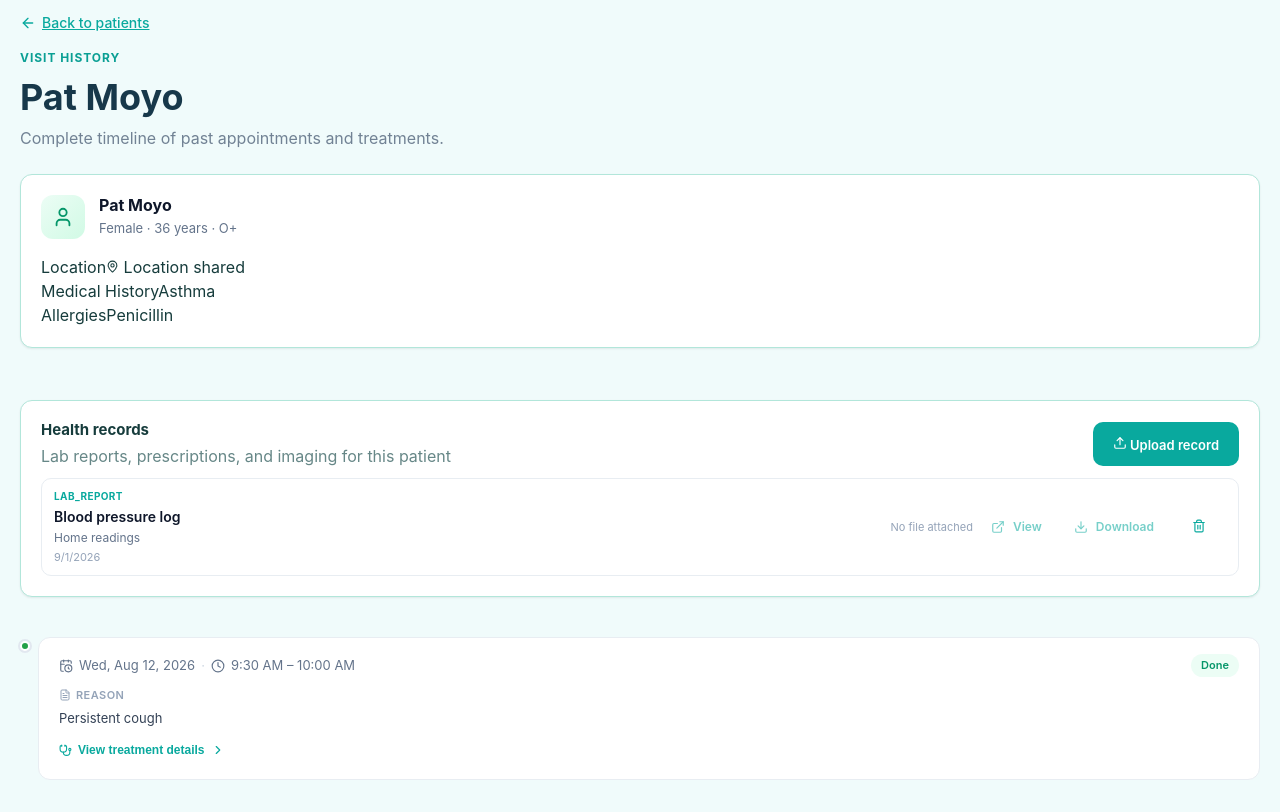
doctor /doctor/visit-history/:patientId — health records › keeps View/Download visible but disabled (with a hint) when a record has no file
Expected: the text "Blood pressure log" is shown, [54,508,180,525]
Expected: the button titled "View" is disabled, [977,509,1056,545]
Click the button titled "Delete record": [1199, 527] box [1172,505,1226,549]
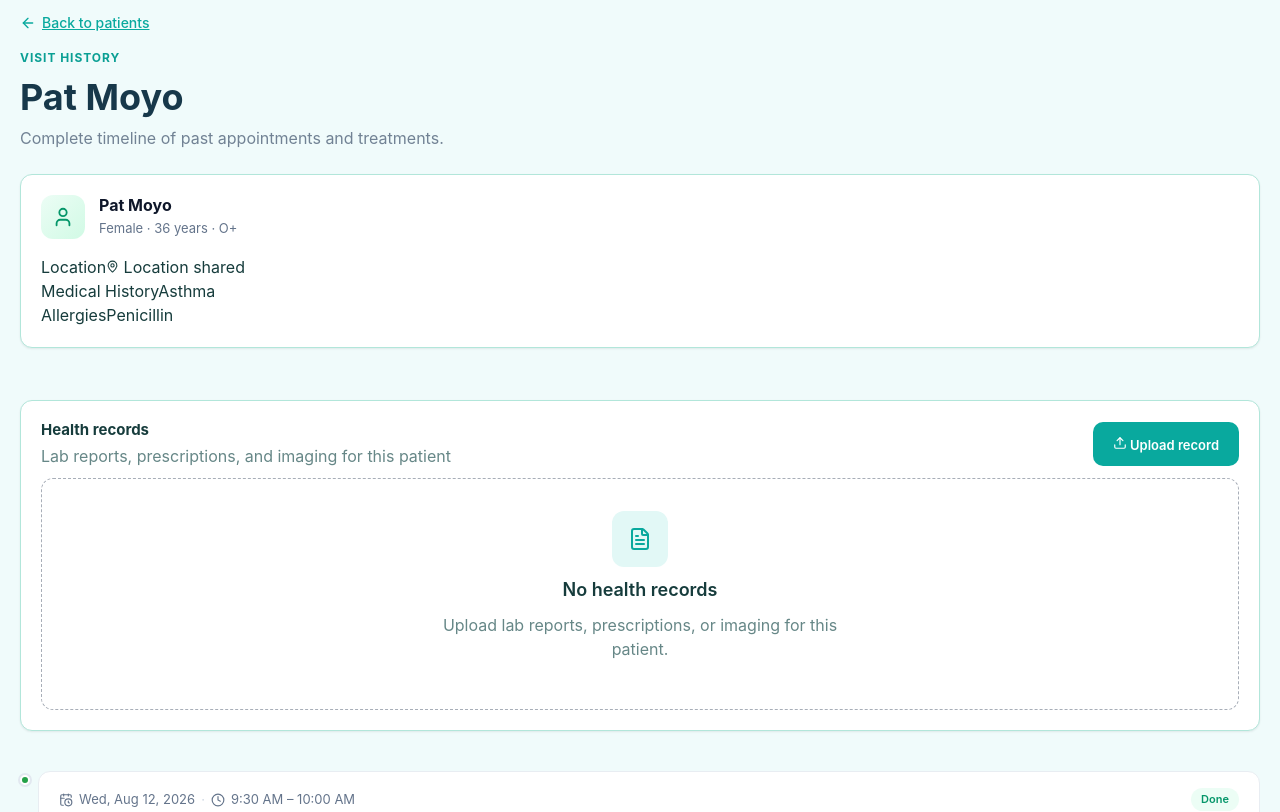
Expected: the text "Blood pressure log" is gone
